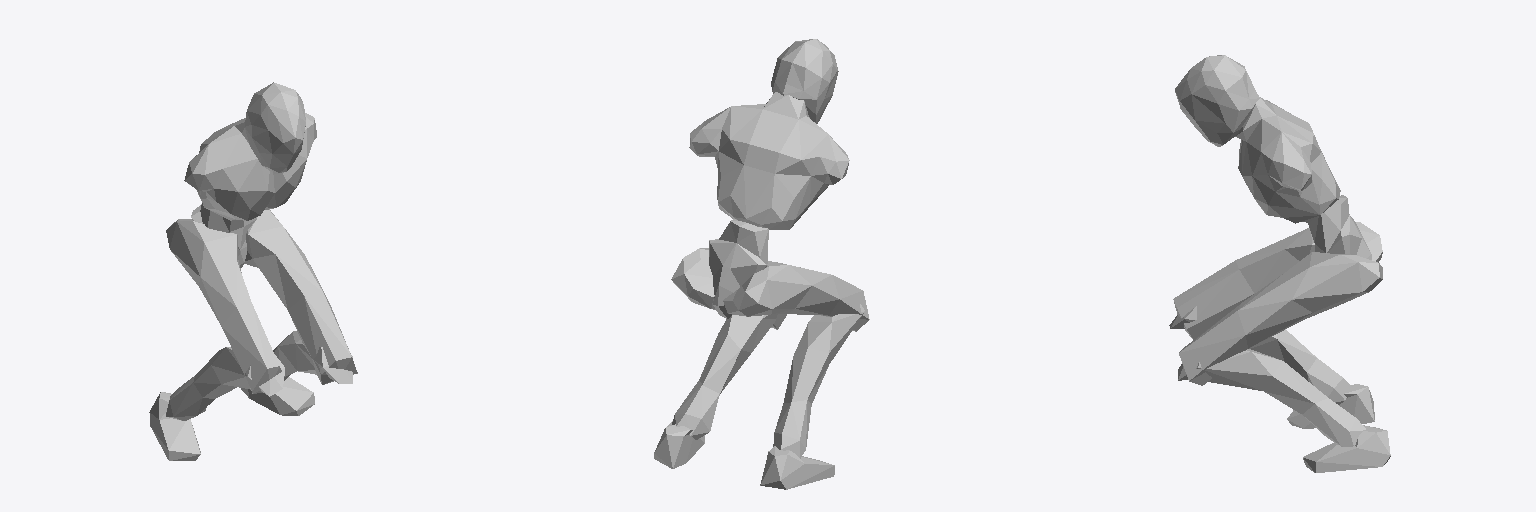
The model's file is filth59.obj.
3 renders of one model, left to right at view 1: azimuth 30°, elevation 25°; view 2: azimuth 150°, elevation 25°; view 3: azimuth 270°, elevation 25°, orthographic.
Parts seen in each view (by area): view 1: Melee_Husk; view 2: Melee_Husk; view 3: Melee_Husk.
Part boxes in pixels (left/top/right/bottom): Melee_Husk: left=149, top=82, right=357, bottom=460; Melee_Husk: left=654, top=39, right=869, bottom=489; Melee_Husk: left=1169, top=55, right=1390, bottom=472.
Bounding box in the file's own units: 22.17 × 53.82 × 27.55.